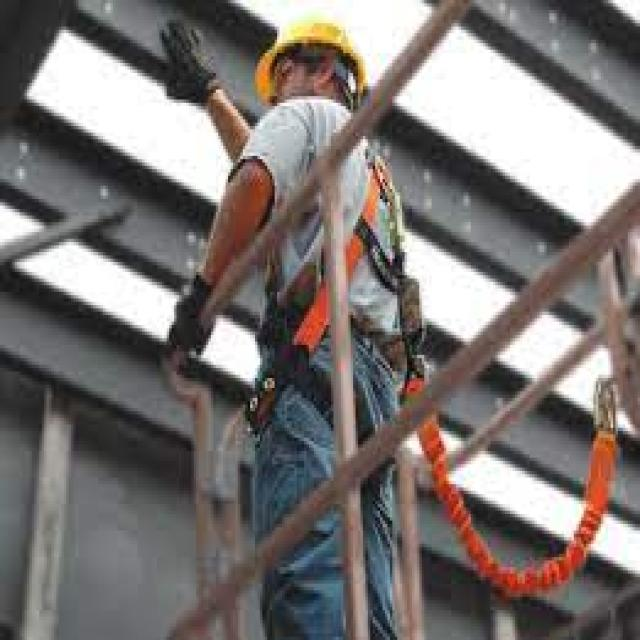harness: (367, 150, 625, 601)
